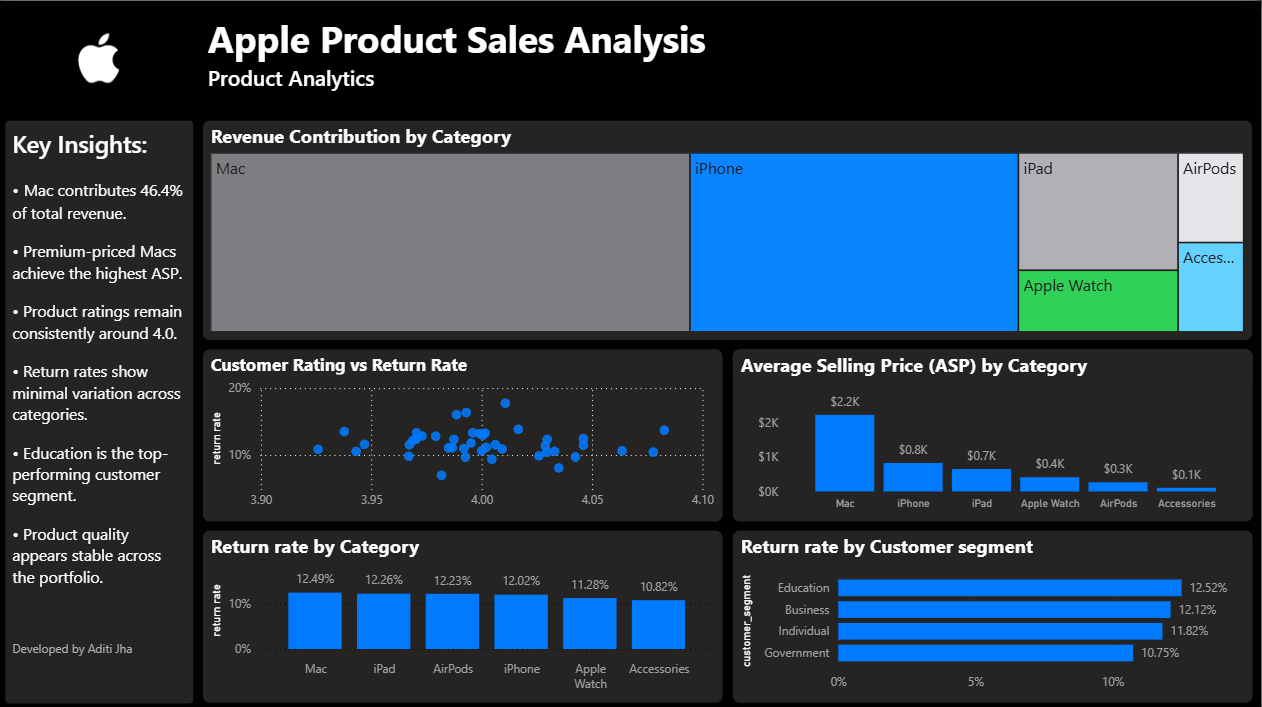

The page's visual inventory and layout, read from the dashboard file:
{"tool":"powerbi","page":{"name":"Product Analytics","canvas":[1280,720],"ordinal":1},"visuals":[{"type":"treemap","title":"Revenue Contribution by Category","fields":{"Group":["sales.category"],"Values":["sales.total revenue"]},"box":[208,120,1064,224],"z":0},{"type":"columnChart","title":"Average Selling Price (ASP) by Category","fields":{"Category":["sales.category"],"Y":["sales.average selling price"]},"box":[744,352,528,176],"z":1000},{"type":"clusteredColumnChart","title":"Return rate by Category","fields":{"Category":["sales.category"],"Y":["sales.return rate"]},"box":[208,536,528,176],"z":2000},{"type":"clusteredBarChart","title":"Return rate by Customer segment","fields":{"Category":["sales.customer_segment"],"Y":["sales.return rate"]},"box":[744,536,528,176],"z":3000},{"type":"scatterChart","title":"Customer Rating vs Return Rate","fields":{"Category":["sales.product_name"],"X":["sales.average rating"],"Y":["sales.return rate"]},"box":[208,352,528,176],"z":4000},{"type":"textbox","box":[208,0,1056,112],"z":5000},{"type":"textbox","box":[8,120,192,592],"z":6000},{"type":"image","box":[8,8,192,104],"z":7000}]}

Visuals, with their boxes in screenshot pixels (x1, y1, x2, y2), scaled from the page's 1280x720 canvas onto the 1262x707 screenshot:
"Revenue Contribution by Category" treemap: select_region(205, 118, 1254, 338)
"Average Selling Price (ASP) by Category" columnChart: select_region(734, 346, 1254, 518)
"Return rate by Category" clusteredColumnChart: select_region(205, 526, 726, 699)
"Return rate by Customer segment" clusteredBarChart: select_region(734, 526, 1254, 699)
"Customer Rating vs Return Rate" scatterChart: select_region(205, 346, 726, 518)
textbox: select_region(205, 0, 1246, 110)
textbox: select_region(8, 118, 197, 699)
image: select_region(8, 8, 197, 110)
